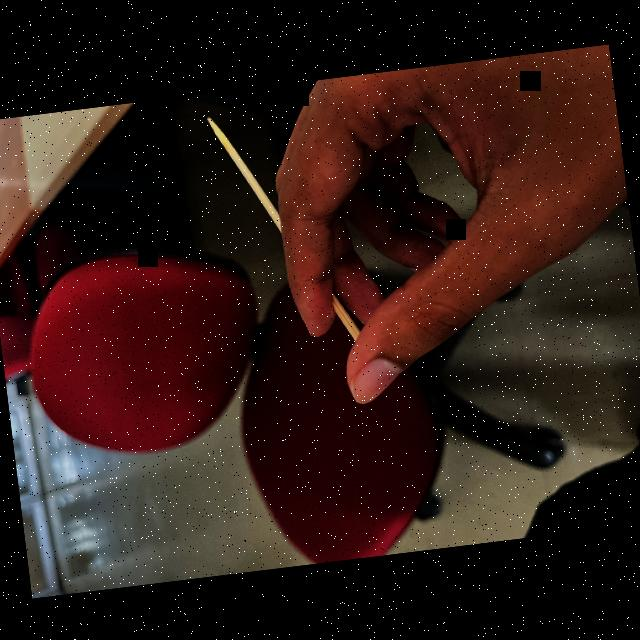stick: (201, 97, 360, 357)
